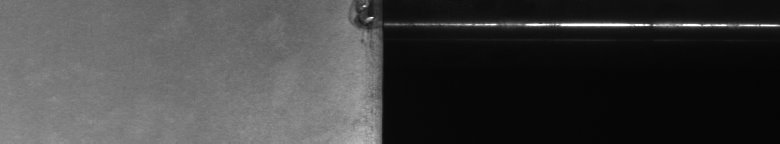hb: (344, 4, 372, 132)
